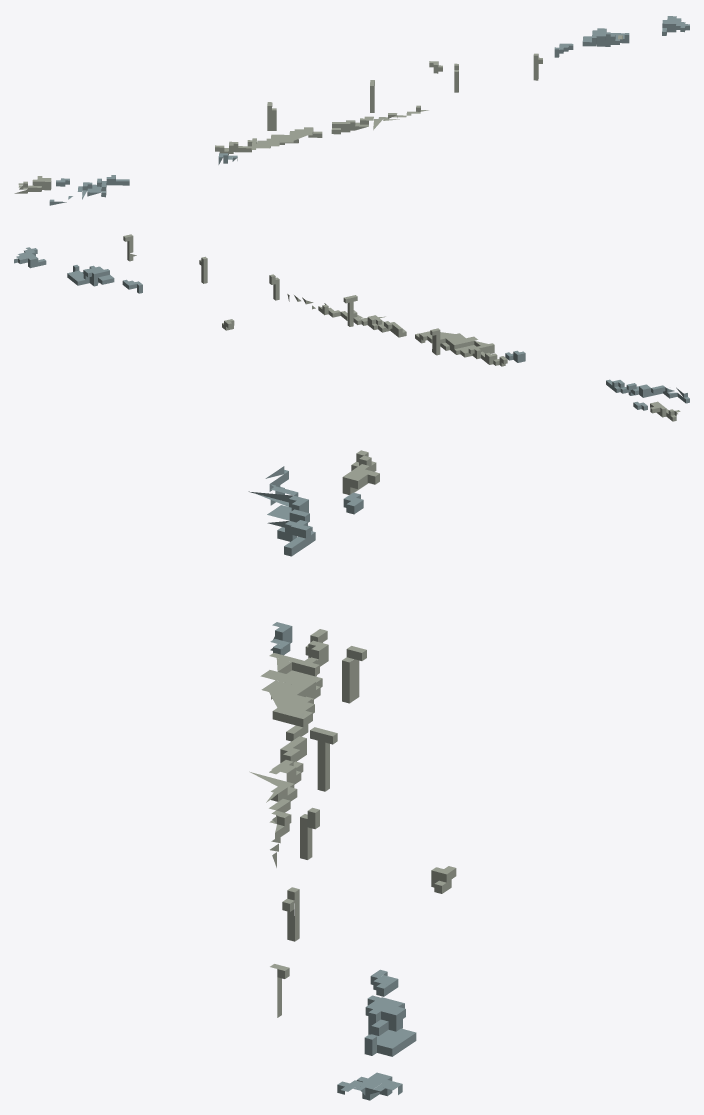
3 views of the same model, one above another, from view 1: azimuth 30°, elevation 25°; view 2: azimuth 150°, elevation 25°; view 3: azimuth 270°, elevation 25° (orthographic). The views are drawn at different scales.
Visible parts, largest first — view 1: measured-industrial; view 2: measured-industrial; view 3: measured-industrial.
Part boxes in pixels (box(x1,y1,x2,y2)): measured-industrial: box(14, 16, 689, 205); measured-industrial: box(14, 234, 689, 421); measured-industrial: box(248, 450, 456, 1100).
Bounding box in the file's own units: 253 × 13.6 × 34.57.
